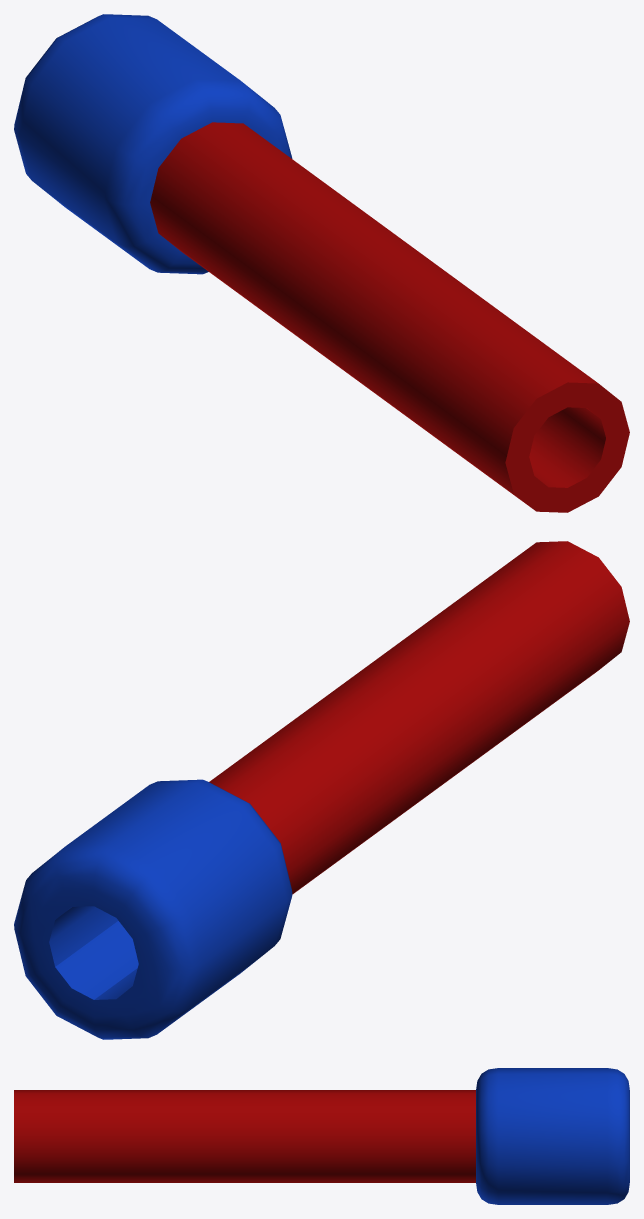
Rendered from Weapon_01_Gun.fbx.
3 views of the same model, one above another, from view 1: azimuth 30°, elevation 25°; view 2: azimuth 150°, elevation 25°; view 3: azimuth 270°, elevation 25° (orthographic). The views are drawn at different scales.
Visible parts, largest first — view 1: Gun, Gun2; view 2: Gun, Gun2; view 3: Gun, Gun2.
Boxes of the visible parts, x1,y1,x2,y2 form: Gun: [150, 122, 629, 512]; Gun2: [14, 14, 292, 274]; Gun: [209, 541, 629, 894]; Gun2: [14, 779, 292, 1039]; Gun: [14, 1090, 475, 1182]; Gun2: [476, 1068, 629, 1204].
Bounding box in the file's own units: 15.27 × 15.27 × 68.43.
